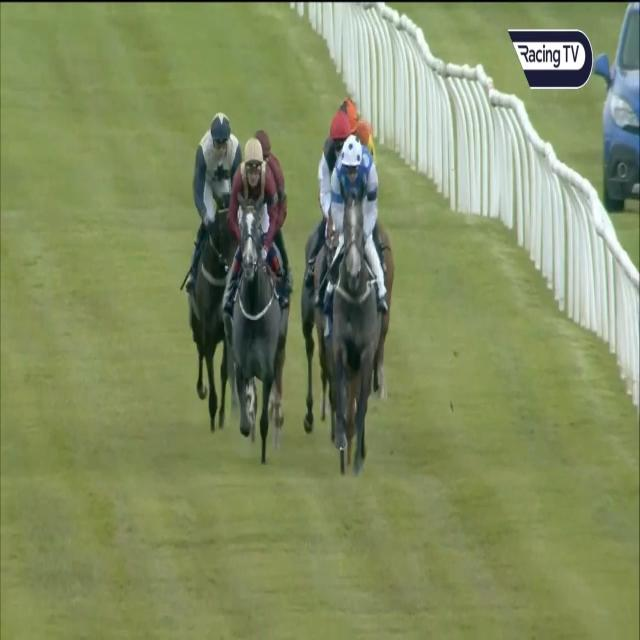horses-racing: (326, 134, 396, 483), (227, 138, 285, 467), (302, 109, 354, 455), (187, 106, 242, 422), (248, 121, 296, 296), (335, 89, 398, 220)
